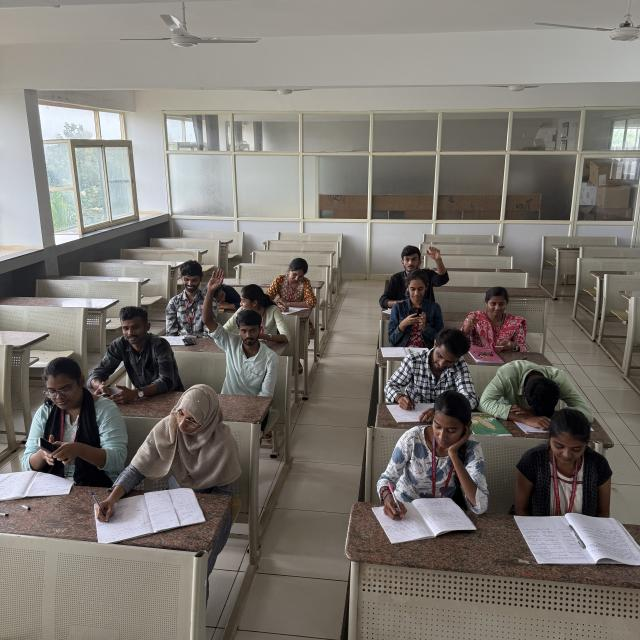Hand Rising: (200, 262, 278, 390), (387, 242, 450, 296)
Reading: (517, 408, 632, 546)
Sleeping: (479, 361, 595, 426)
Using Phone: (21, 356, 121, 477), (88, 305, 184, 409), (386, 272, 443, 346)
Writing: (93, 380, 246, 524), (379, 400, 491, 541), (384, 326, 480, 420), (266, 256, 318, 316)
